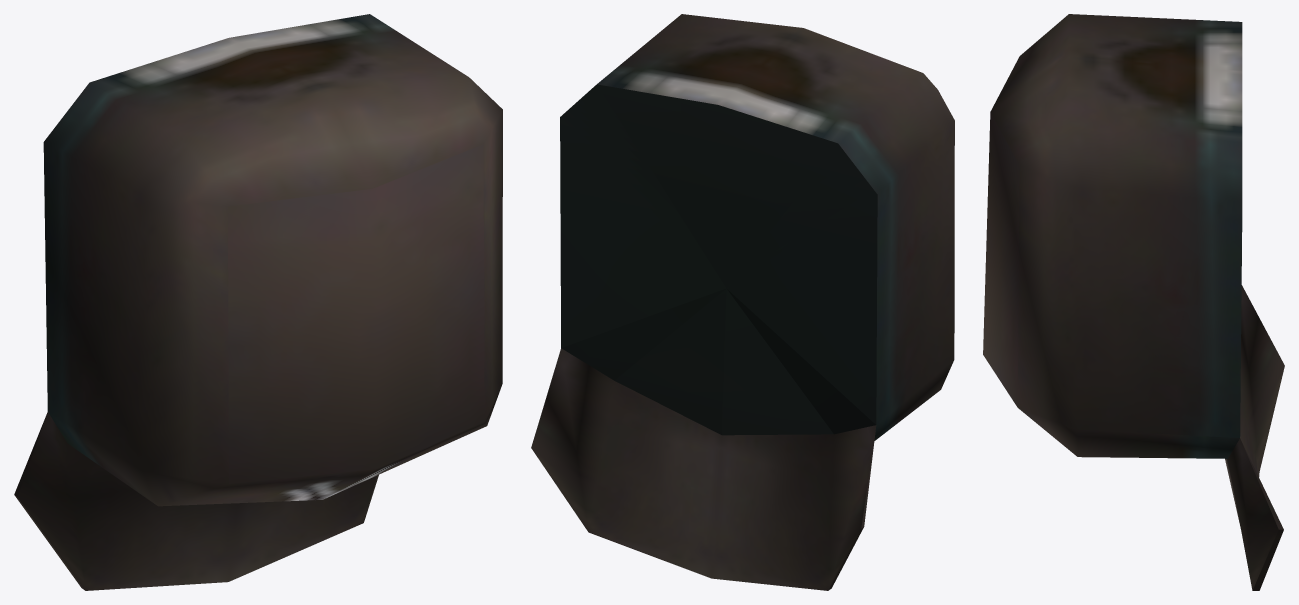
Rendered from Avatar_Mike_H_01_5_b6620519__Avatar_Mike_01_540414a4_c1f257.obj.
The picture shows the model from 3 angles, left to right: view 1: azimuth 30°, elevation 25°; view 2: azimuth 150°, elevation 25°; view 3: azimuth 270°, elevation 25°; orthographic projection. The views are drawn at different scales.
Size of the model in its own units: 0.741 by 1.04 by 0.5763.
1 material, 1 textured.
